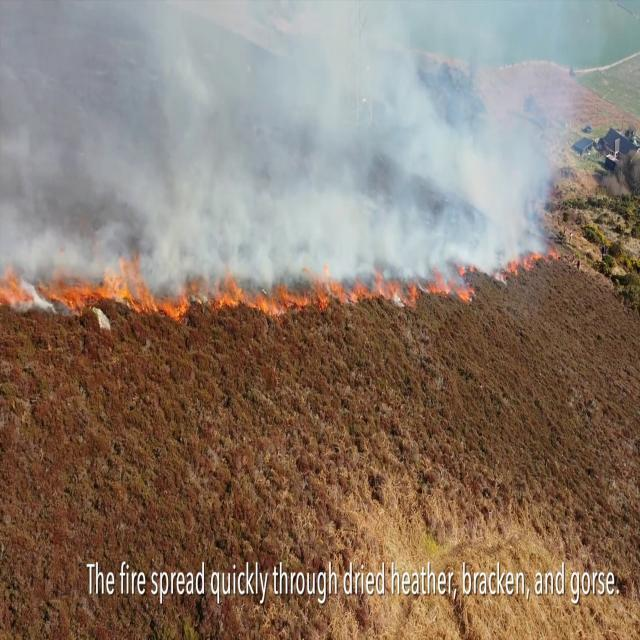Fire: (0, 251, 160, 321), (221, 270, 296, 319), (398, 263, 468, 311), (300, 265, 357, 311), (161, 294, 194, 321)
Smoke: (1, 1, 559, 260)
